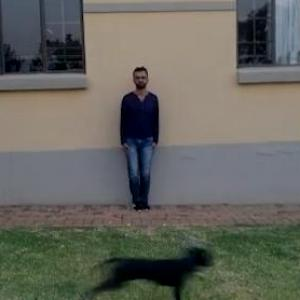follow: (118, 64, 162, 212)
